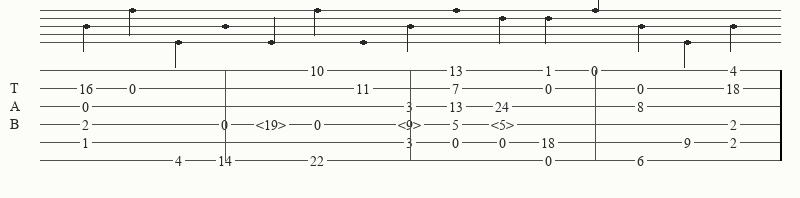0: (82, 99, 93, 113), (129, 81, 140, 95), (221, 117, 232, 131), (314, 117, 325, 131), (452, 135, 463, 149), (499, 135, 510, 149), (545, 153, 556, 167), (545, 81, 556, 95), (591, 63, 602, 77), (637, 81, 648, 95)
1: (82, 135, 93, 149), (545, 63, 556, 77)
10: (310, 63, 328, 77)
11: (356, 81, 374, 95)
13: (449, 99, 467, 113), (449, 63, 467, 77)
14: (218, 153, 236, 167)
16: (79, 81, 97, 95)
18: (541, 135, 559, 149), (726, 81, 744, 95)
2: (82, 117, 93, 131), (730, 135, 741, 149), (730, 117, 741, 131)
22: (310, 153, 328, 167)
24: (495, 99, 513, 113)
3: (406, 135, 417, 149), (406, 99, 417, 113)
4: (175, 153, 186, 167), (730, 63, 741, 77)
5: (452, 117, 463, 131)
6: (637, 153, 648, 167)
7: (452, 81, 463, 95)
8: (637, 99, 648, 113)
9: (684, 135, 695, 149)
harmonic: (256, 117, 290, 131), (398, 117, 425, 131), (491, 117, 518, 131)
